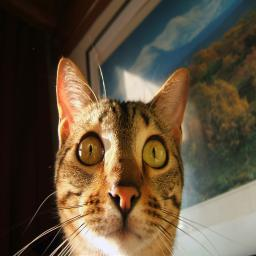catnose: (110, 184, 140, 217)
